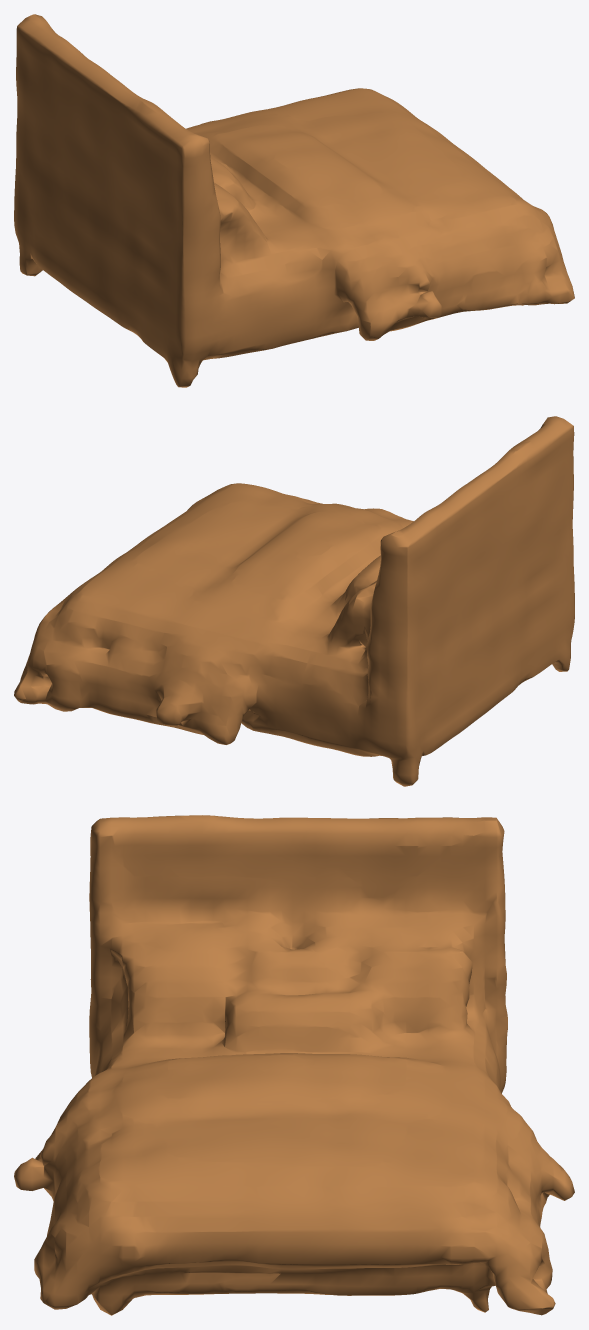
The model's file is bed_1_1.obj.
The picture shows the model from 3 angles, top to bottom: view 1: azimuth 30°, elevation 25°; view 2: azimuth 150°, elevation 25°; view 3: azimuth 270°, elevation 25°; orthographic projection. The views are drawn at different scales.
Size of the model in its own units: 0.731 by 0.4655 by 0.7741.
